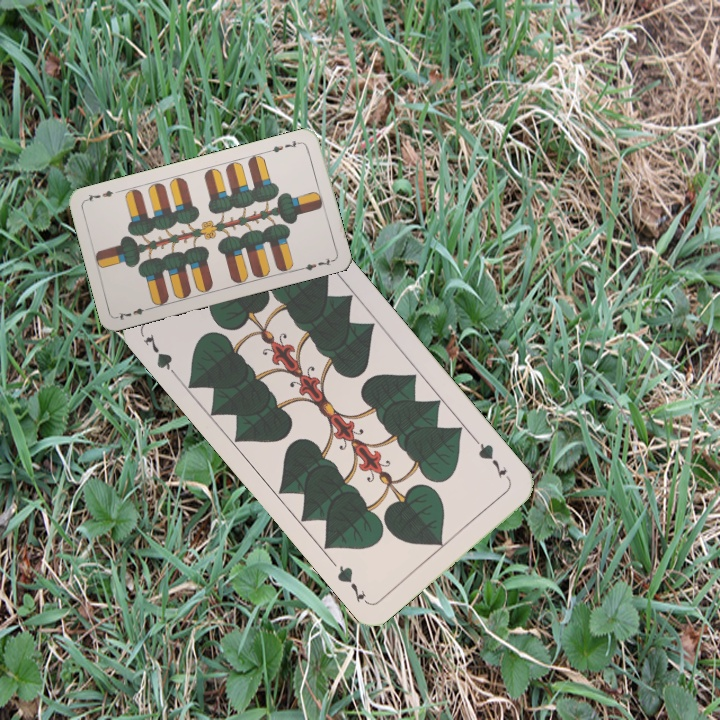E7: (264, 136, 305, 155), (114, 303, 154, 322)
G7: (139, 329, 183, 383), (470, 435, 509, 481)
